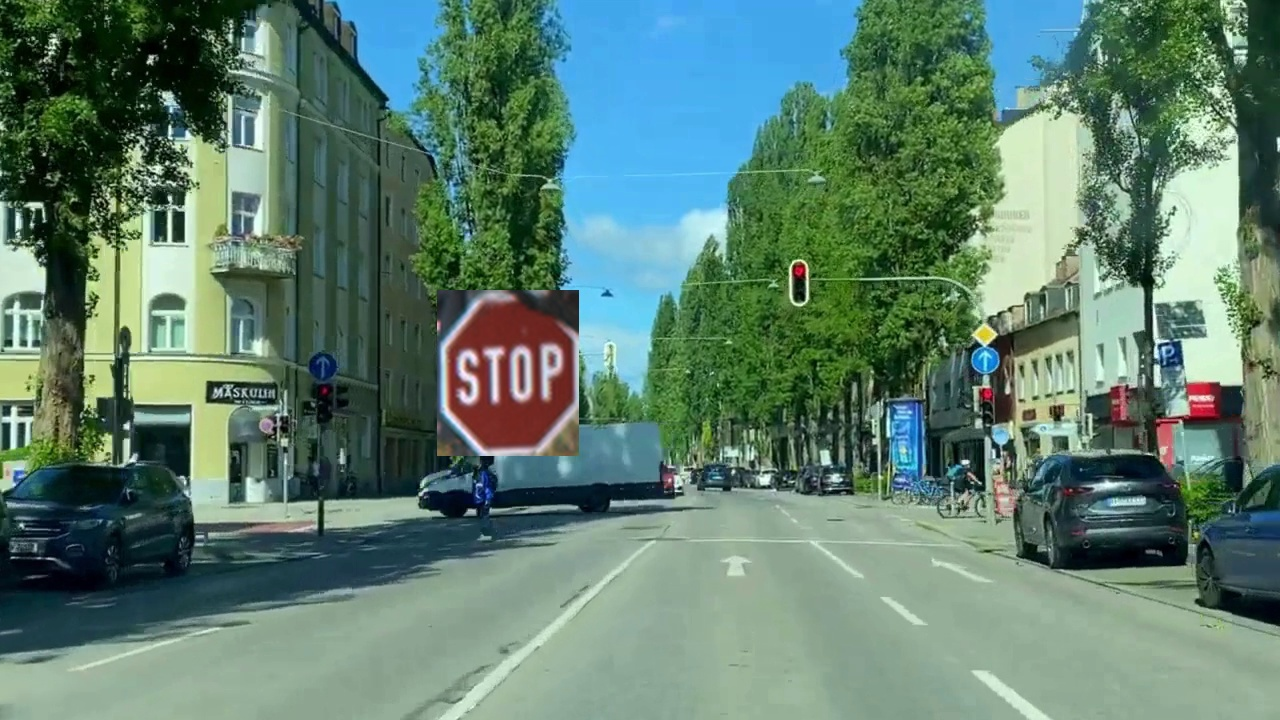Stop: (437, 290, 579, 456)
